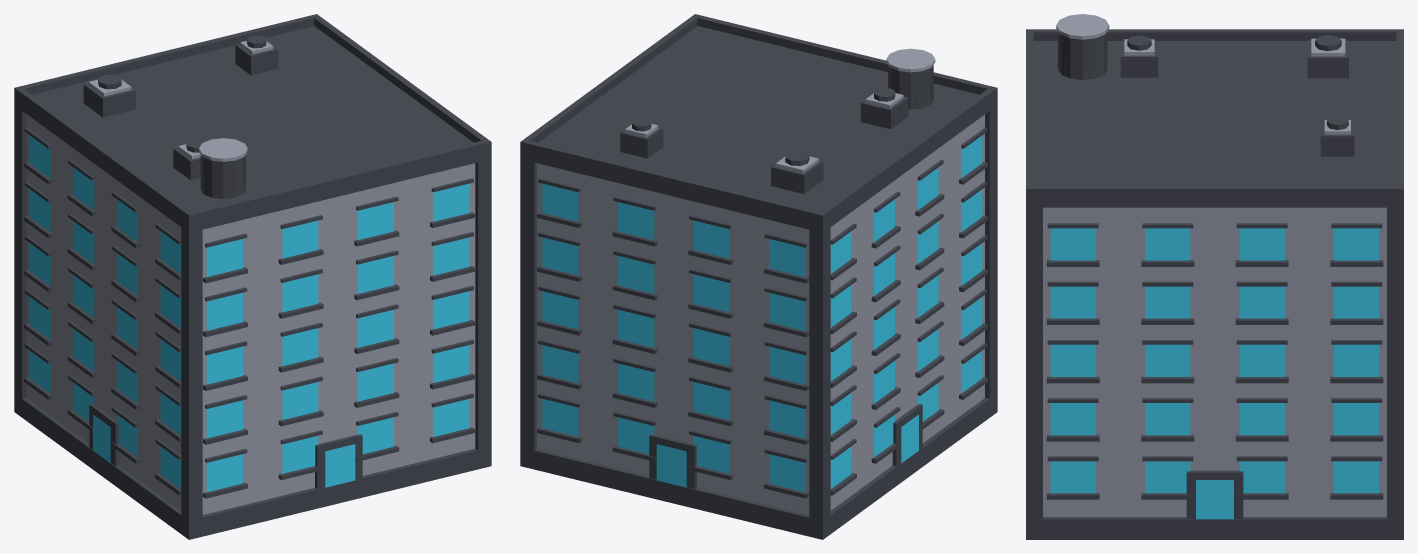
The model's file is building_block.glb.
3 renders of one model, left to right at view 1: azimuth 30°, elevation 25°; view 2: azimuth 150°, elevation 25°; view 3: azimuth 270°, elevation 25°, orthographic. The views are drawn at different scales.
Parts seen in each view (by area): view 1: building_block; view 2: building_block; view 3: building_block.
Part boxes in pixels (bbox=[...]): building_block: bbox=[14, 14, 491, 539]; building_block: bbox=[520, 14, 997, 539]; building_block: bbox=[1026, 14, 1403, 539].
Size of the model in its own units: 1 by 1.13 by 1.
